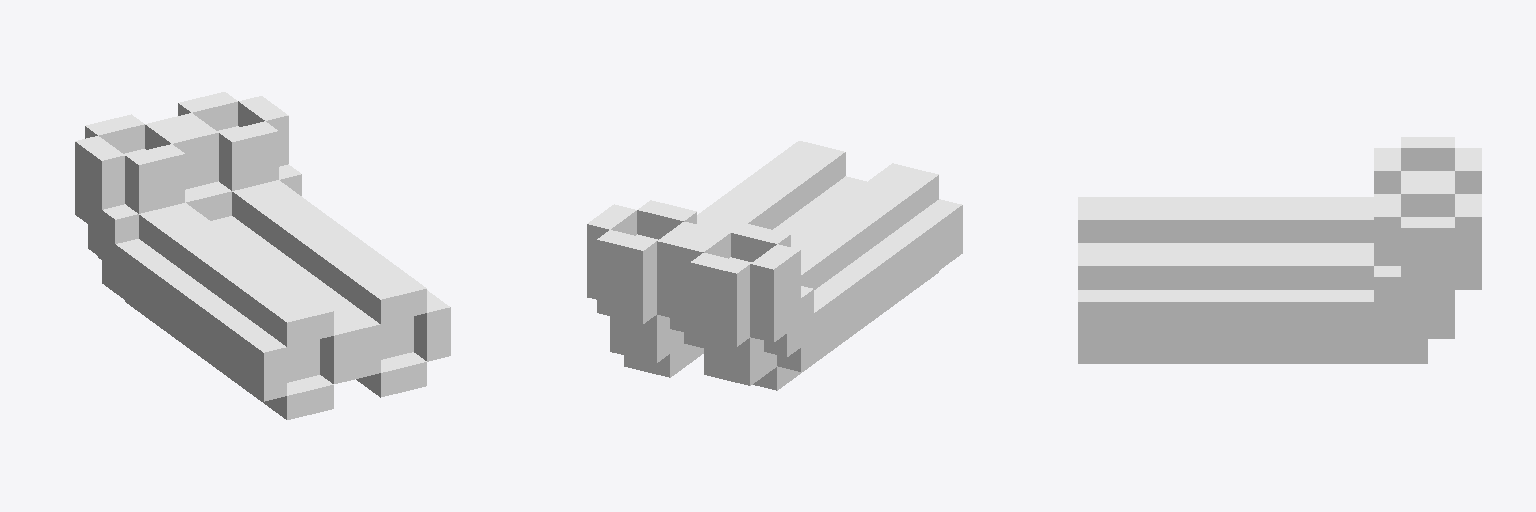
File: escape.obj
The picture shows the model from 3 angles: view 1: azimuth 30°, elevation 25°; view 2: azimuth 150°, elevation 25°; view 3: azimuth 270°, elevation 25°; orthographic projection.
Parts seen in each view (by area): view 1: object 1; view 2: object 1; view 3: object 1.
Part boxes in pixels (x1,y1,x2,y2): object 1: (75, 92, 450, 419); object 1: (587, 141, 962, 390); object 1: (1078, 137, 1481, 363).
Size of the model in its own units: 0.8 by 0.6 by 1.5.